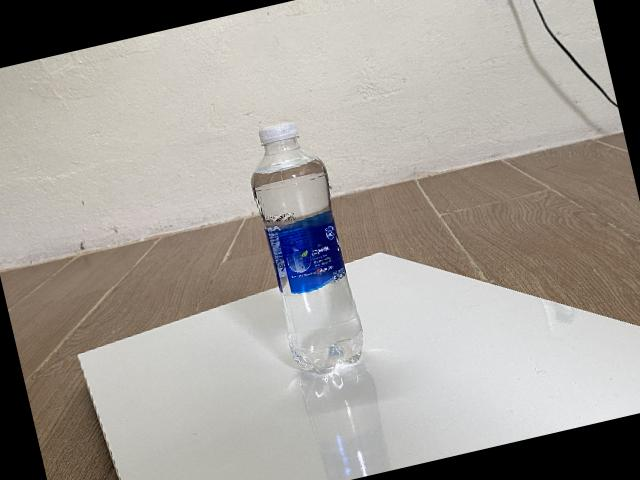aquafina: (251, 122, 363, 376)
